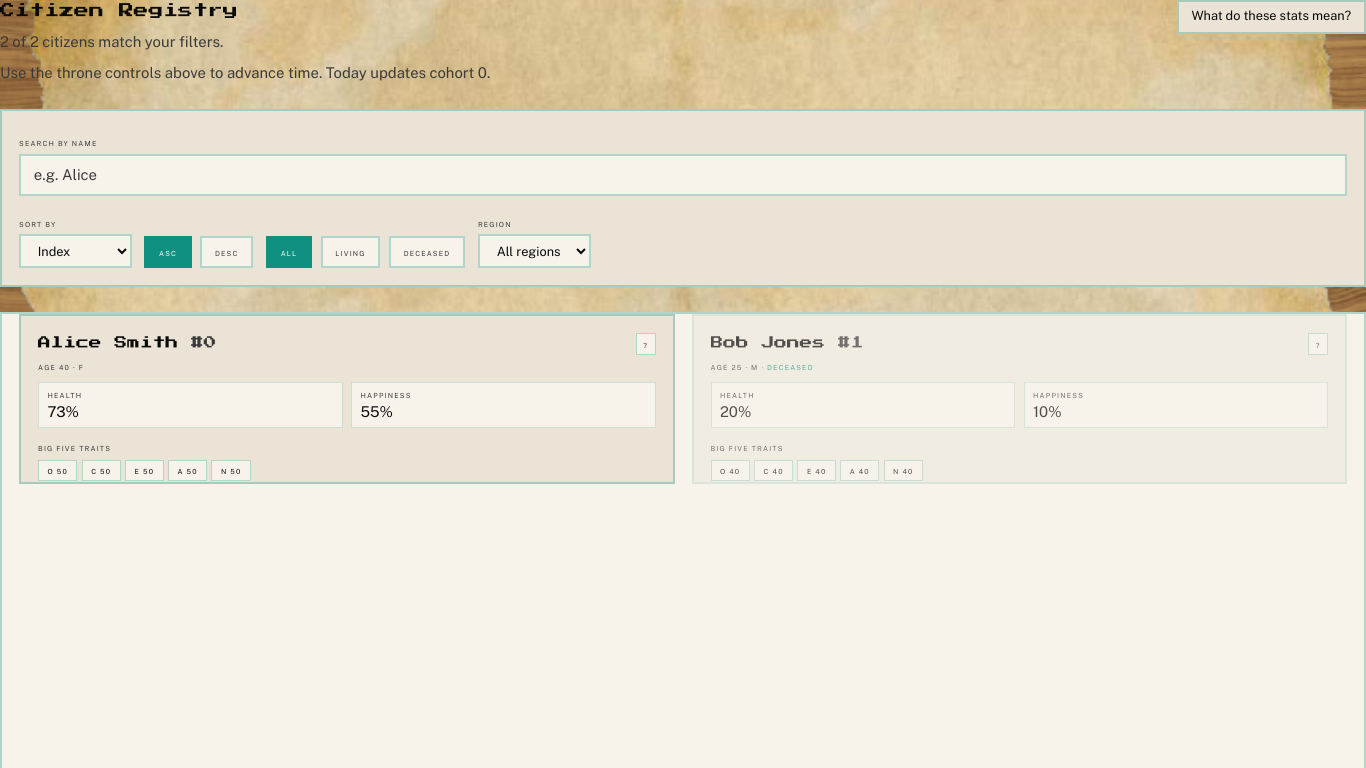
Test case: PopulationPage › opens the stats glossary modal
This screenshot has width=1366, height=768.
Expected: the heading "Alice Smith #0" is shown, [38,333,216,354]
Click the button "What do these stats mean?" at coordinates (1271, 17), box [1177,0,1365,34]
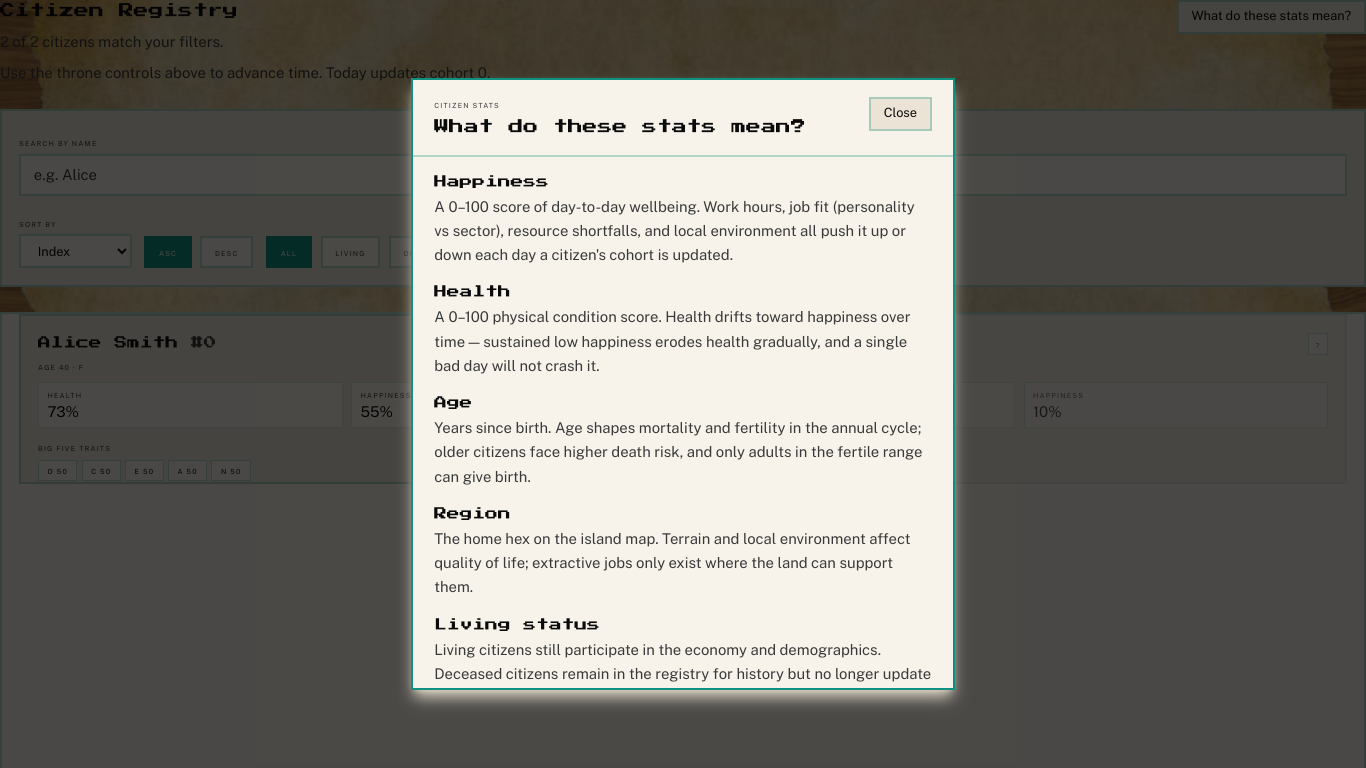
Expected: the dialog "What do these stats mean?" is shown
Expected: the heading "Happiness" is shown, [434,174,549,188]
